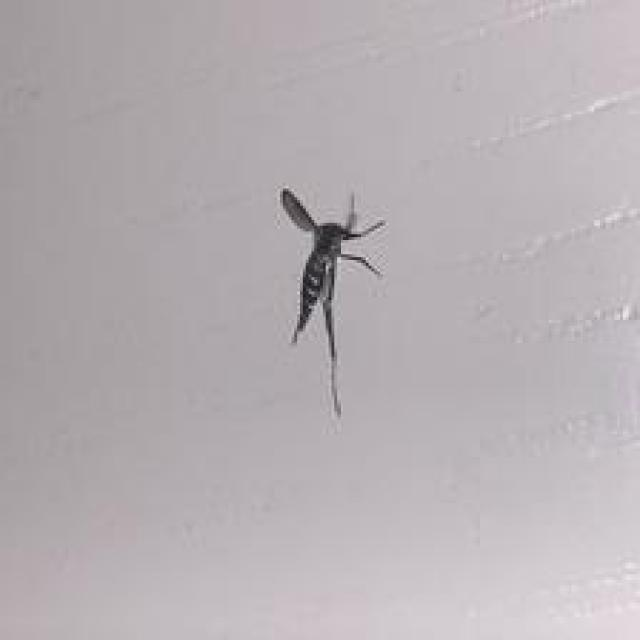Aedes albopictus: (279, 186, 387, 417)
